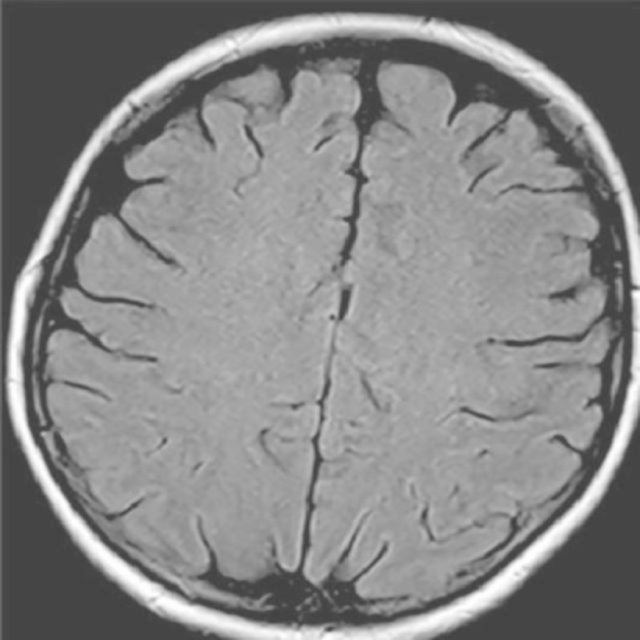glioma tumor: (161, 88, 532, 566)
